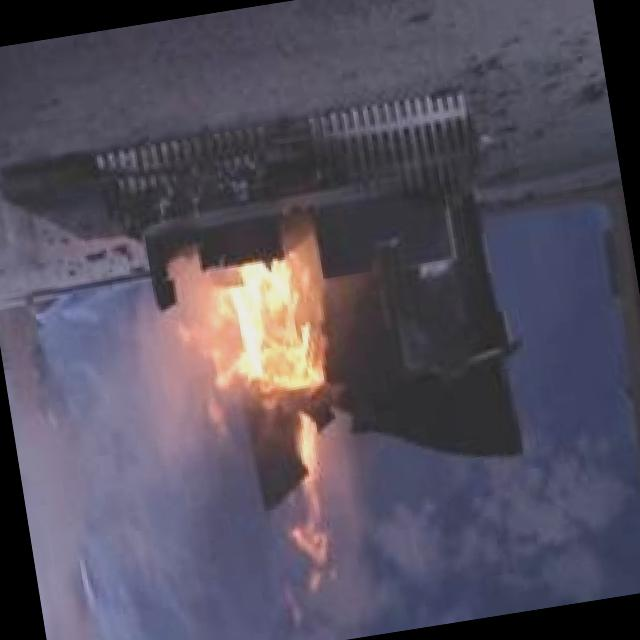fire: (176, 250, 371, 584)
